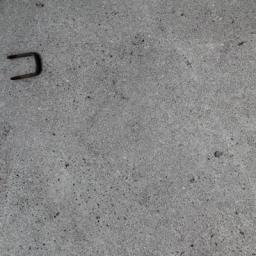FOD: (7, 52, 47, 83)
